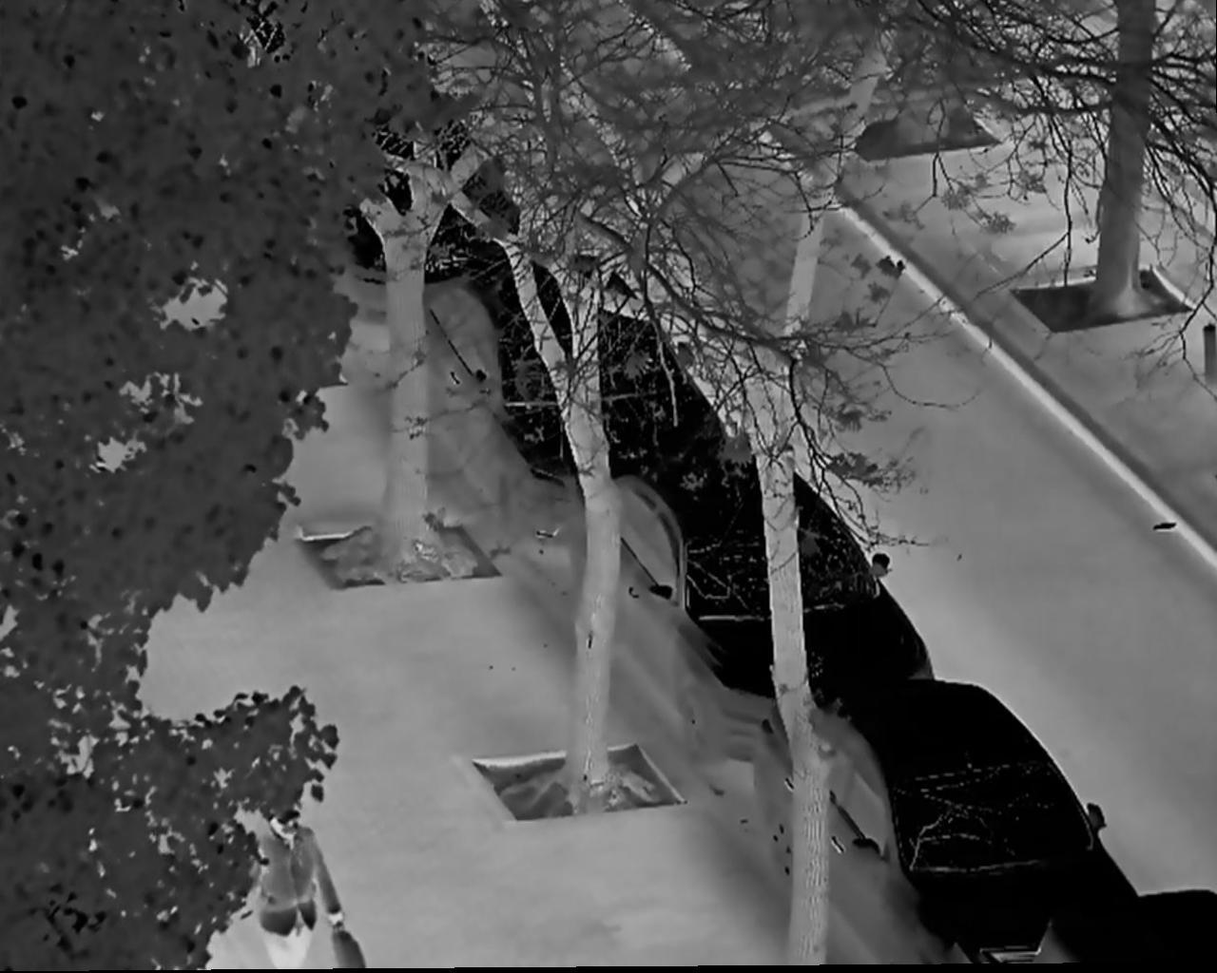person: (235, 798, 350, 963)
